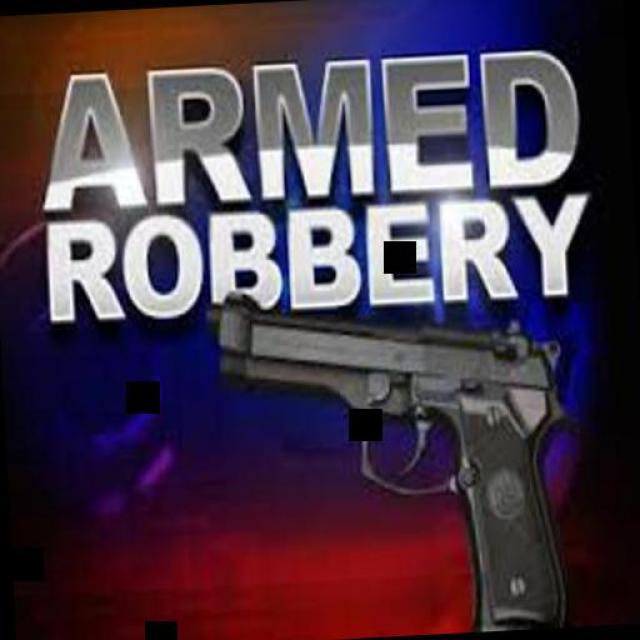gun: (201, 259, 585, 640)
